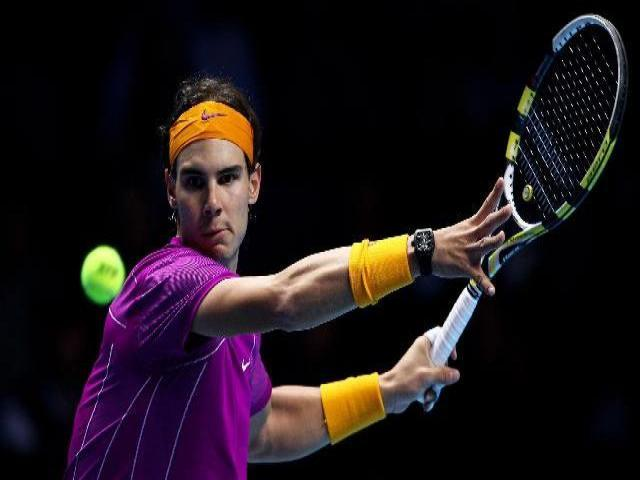tennis-ball: (80, 245, 125, 304)
